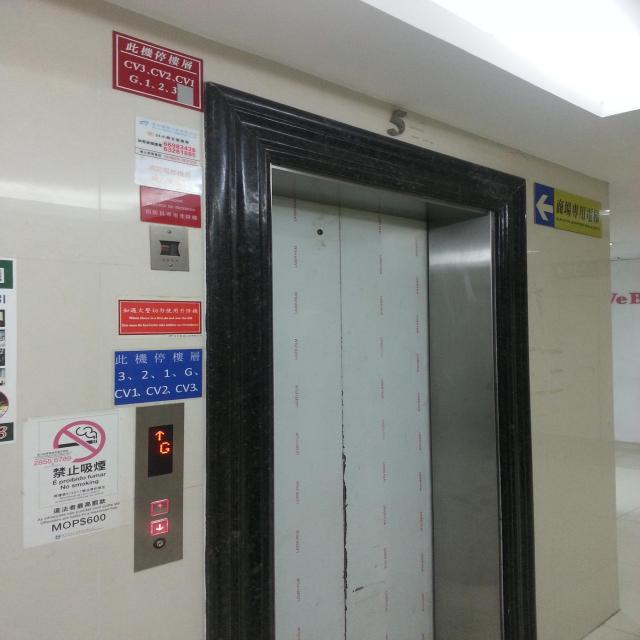down: (150, 517, 168, 536)
keyhole: (153, 537, 166, 549)
led: (147, 424, 173, 477)
up: (150, 498, 168, 516)
